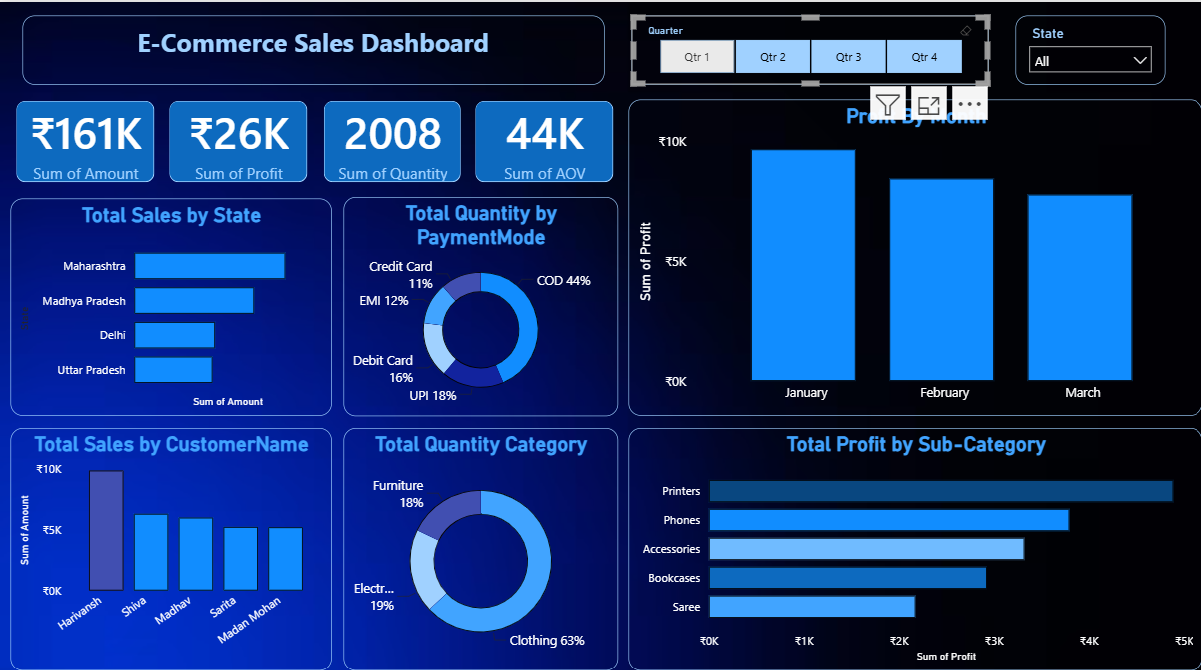

The dashboard page shown, as its layout file describes it:
{"tool":"powerbi","page":{"name":"Page 1","canvas":[1280,720],"ordinal":0},"visuals":[{"type":"textbox","box":[23.8,14.3,615.9,73],"z":0},{"type":"columnChart","title":"Profit By Month","fields":{"Category":["Orders.Order Date.Variation.Date Hierarchy.Month"],"Y":["Sum(Details.Profit)"]},"box":[665.1,103.2,607.9,334.9],"z":1000},{"type":"barChart","title":"Total Profit by Sub-Category","fields":{"Category":["Details.Sub-Category"],"Y":["Sum(Details.Profit)"]},"box":[665.1,450.8,607.9,257.1],"z":2000},{"type":"donutChart","title":"Total Quantity Category","fields":{"Category":["Details.Category"],"Y":["Sum(Details.Quantity)"]},"box":[363.5,450.8,290.5,257.1],"z":3000},{"type":"donutChart","title":"Total Quantity by PaymentMode","fields":{"Y":["Sum(Details.Quantity)"],"Category":["Details.PaymentMode"]},"box":[363.5,206.3,290.5,231.7],"z":4000},{"type":"cardVisual","fields":{"Data":["Sum(Details.Amount)"]},"box":[0,87.3,181,120.6],"z":5000},{"type":"cardVisual","fields":{"Data":["Sum(Details.Profit)"]},"box":[162.4,87.3,181,120.6],"z":6000},{"type":"cardVisual","fields":{"Data":["Sum(Details.Quantity)"]},"box":[324.9,87.3,179.4,120.6],"z":7000},{"type":"cardVisual","fields":{"Data":["Sum(Details.AOV)"]},"box":[485.7,87.3,180,120],"z":8000},{"type":"barChart","title":"Total Sales by State","fields":{"Category":["Orders.State"],"Y":["Sum(Details.Amount)"]},"box":[11.1,207.9,339.7,230.2],"z":9000},{"type":"columnChart","title":"Total Sales by CustomerName","fields":{"Category":["Orders.CustomerName"],"Y":["Sum(Details.Amount)"]},"box":[11.1,450.8,339.7,257.1],"z":10000},{"type":"slicer","fields":{"Values":["Orders.Order Date.Variation.Date Hierarchy.Quarter"]},"box":[668.3,14.3,377.8,73],"z":11000},{"type":"slicer","fields":{"Values":["Orders.State"]},"box":[1074.6,14.3,158.7,73],"z":12000}]}

Visuals, with their boxes in screenshot pixels (x1, y1, x2, y2), scaled from the page's 1280x720 canvas onto the 1201x670 screenshot:
textbox: [22, 13, 600, 81]
"Profit By Month" columnChart: [624, 96, 1194, 408]
"Total Profit by Sub-Category" barChart: [624, 419, 1194, 659]
"Total Quantity Category" donutChart: [341, 419, 614, 659]
"Total Quantity by PaymentMode" donutChart: [341, 192, 614, 408]
cardVisual - Sum(Details.Amount): [0, 81, 170, 193]
cardVisual - Sum(Details.Profit): [152, 81, 322, 193]
cardVisual - Sum(Details.Quantity): [305, 81, 473, 193]
cardVisual - Sum(Details.AOV): [456, 81, 625, 193]
"Total Sales by State" barChart: [10, 193, 329, 408]
"Total Sales by CustomerName" columnChart: [10, 419, 329, 659]
slicer - Orders.Order Date.Variation.Date Hierarchy.Quarter: [627, 13, 982, 81]
slicer - Orders.State: [1008, 13, 1157, 81]
